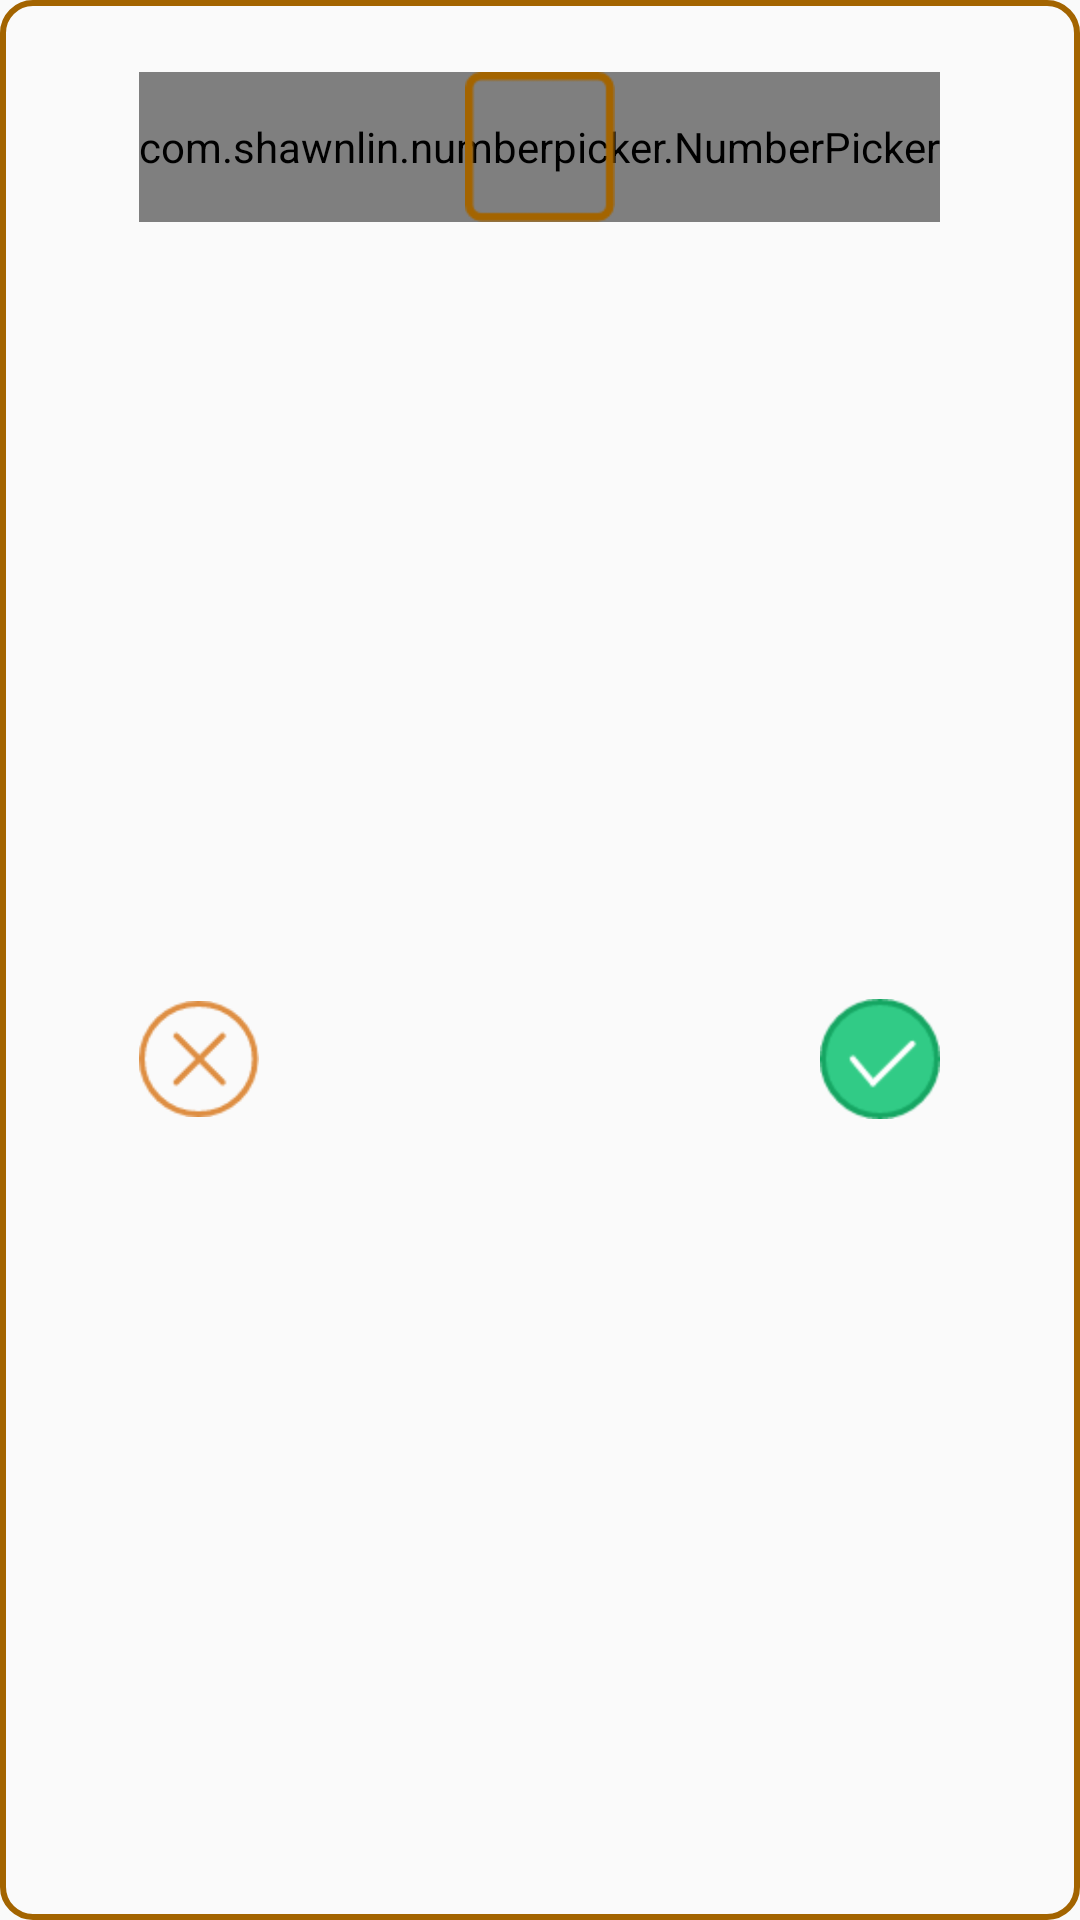

Locate icon controls on the screen. Image size 1080x1920, boxes as (x1,y1,x2,y2).
cancel: (139,1001,259,1117)
yes: (820,999,940,1119)
